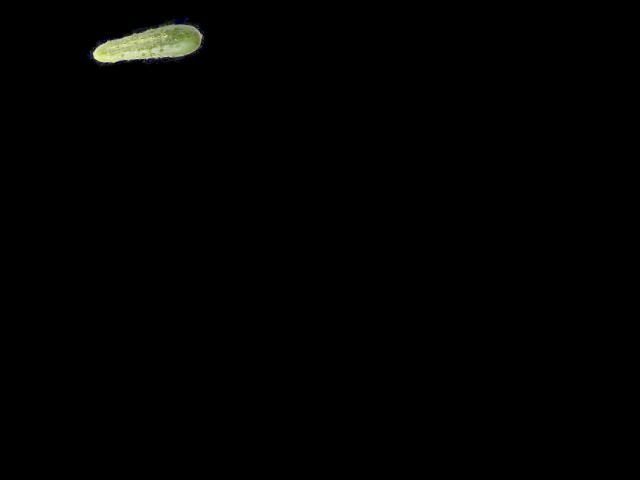cucumber: (90, 18, 205, 70)
